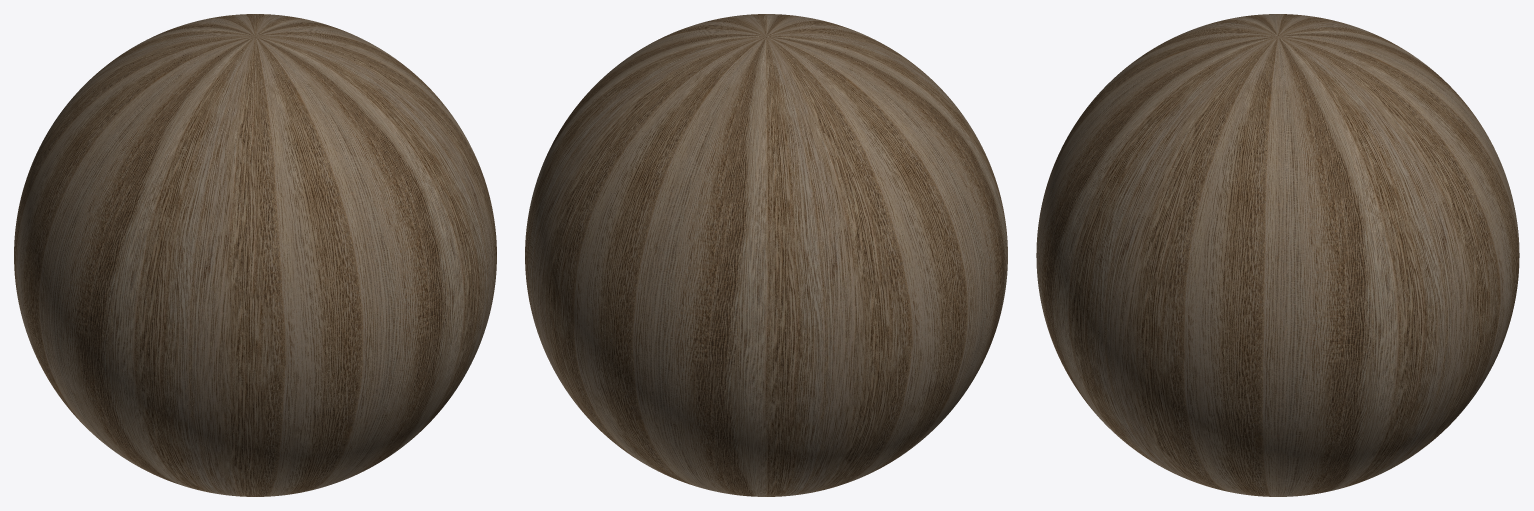
The model's file is kitchen_wood_2k.gltf.
3 views of the same model, side by side, from view 1: azimuth 30°, elevation 25°; view 2: azimuth 150°, elevation 25°; view 3: azimuth 270°, elevation 25° (orthographic).
Visible parts, largest first — view 1: sphere_gltf; view 2: sphere_gltf; view 3: sphere_gltf.
Boxes of the visible parts, <box> form: sphere_gltf: <box>14,14,496,496</box>; sphere_gltf: <box>525,14,1007,496</box>; sphere_gltf: <box>1036,14,1519,496</box>.
Size of the model in its own units: 0.6 by 0.6 by 0.6.
Materials: 1 (1 with a texture image).
